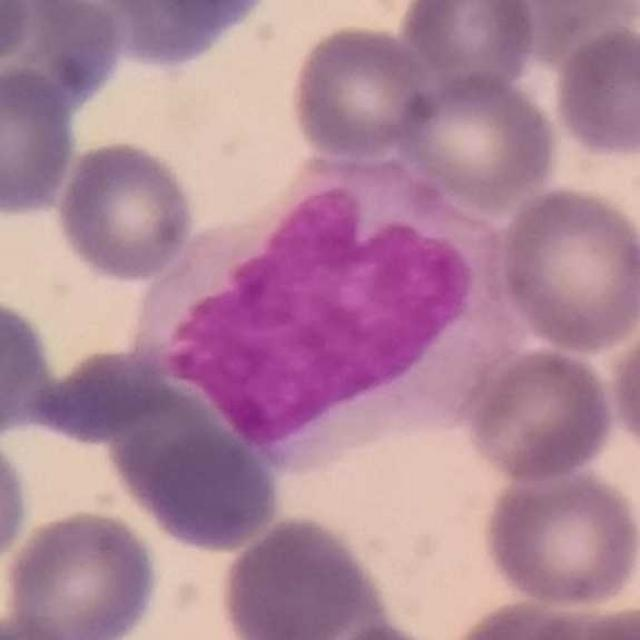mono: (127, 150, 533, 473)
